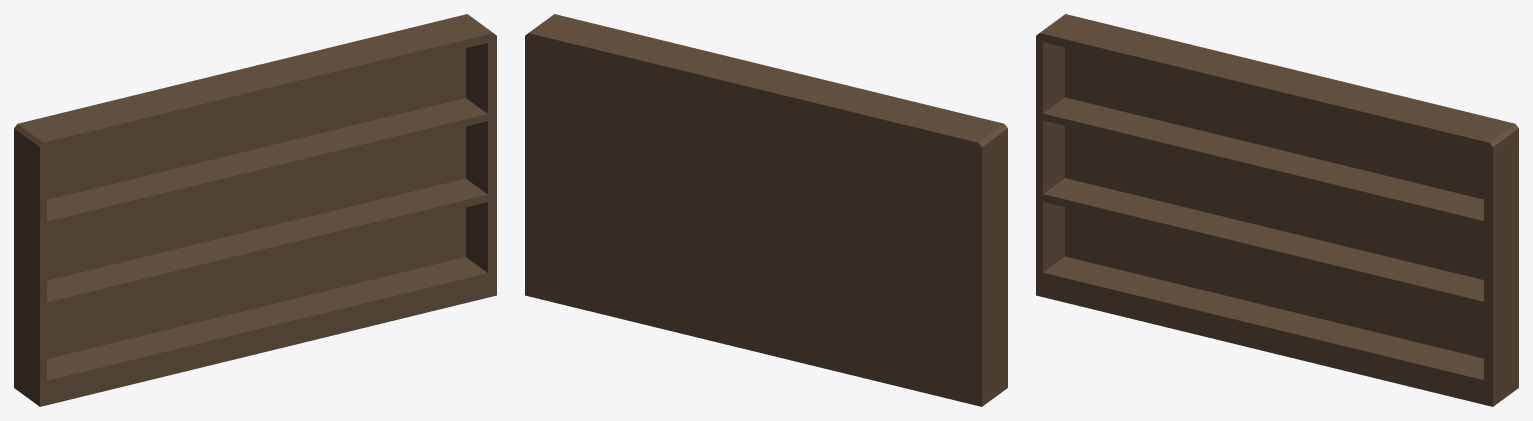
The model's file is Estante Tipo 1.fbx.
The picture shows the model from 3 angles, left to right: view 1: azimuth 30°, elevation 25°; view 2: azimuth 150°, elevation 25°; view 3: azimuth 330°, elevation 25°; orthographic projection.
Parts seen in each view (by area): view 1: Estante_tipo_1; view 2: Estante_tipo_1; view 3: Estante_tipo_1.
Part boxes in pixels (x1,y1,x2,y2): Estante_tipo_1: [14, 14, 496, 406]; Estante_tipo_1: [525, 14, 1007, 406]; Estante_tipo_1: [1036, 14, 1518, 406].
Bounding box in the file's own units: 7.23 × 3.98 × 0.7127.
